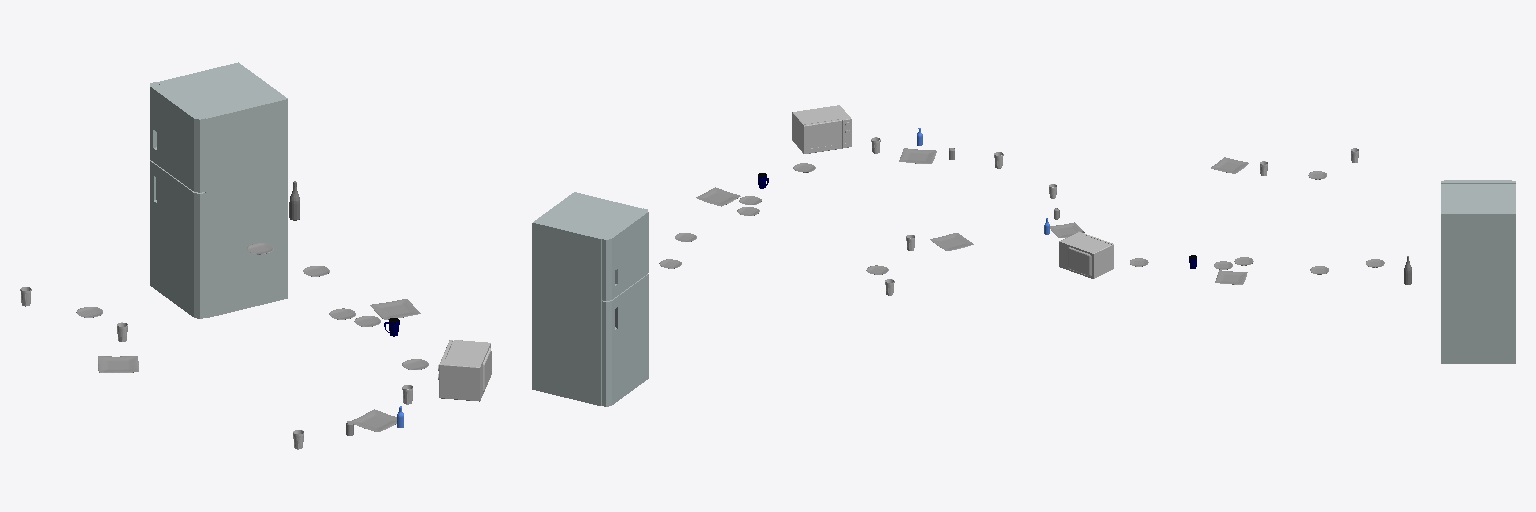
--- Facts derived from the render (not from the file) ---
Views: 3 orthographic renders of the robot side by side, from view 1: azimuth 30°, elevation 25°; view 2: azimuth 150°, elevation 25°; view 3: azimuth 270°, elevation 25°.
Robot: Kitchen_standard — 26 links, 25 joints (3 revolute, 1 continuous, 5 fixed, 16 floating); root link root_standard; default pose: every joint at zero.
Links seen in each view (by area): view 1: refridge_root, refridge_door1, refridge_door2, Microwave_root, SquarePlate_root.002, SquarePlate_root, SquarePlate_root.001; view 2: refridge_root, refridge_door1, refridge_door2, Microwave_root, Microwave_door; view 3: refridge_root, Microwave_root.
Link boxes in pixels (left/top/right/bottom): refridge_root: left=157, top=62, right=287, bottom=317; refridge_door1: left=150, top=160, right=205, bottom=318; refridge_door2: left=150, top=82, right=205, bottom=192; Microwave_root: left=438, top=340, right=491, bottom=401; SquarePlate_root.002: left=98, top=356, right=138, bottom=372; SquarePlate_root: left=370, top=299, right=420, bottom=319; SquarePlate_root.001: left=352, top=409, right=396, bottom=431; refridge_root: left=532, top=192, right=641, bottom=405; refridge_door1: left=602, top=274, right=648, bottom=406; refridge_door2: left=602, top=208, right=648, bottom=300; Microwave_root: left=792, top=105, right=851, bottom=152; Microwave_door: left=803, top=119, right=841, bottom=153; refridge_root: left=1441, top=184, right=1515, bottom=363; Microwave_root: left=1059, top=232, right=1111, bottom=278.
Size in the robot's own frame: 3.31 by 5.41 by 1.9 metres.
24 mesh visuals loaded from 24 distinct referenced files (24 Collada DAE).

The robot description file, URDF, robot "Kitchen_standard":
<?xml version="1.0"?>
<!-- created with Phobos 1.0.1 "Capricious Choutengan" -->
  <robot name="Kitchen_standard">

    <link name="GlassBottle_root">
      <inertial>
        <origin xyz="0 0 0" rpy="0 0 0"/>
        <mass value="0.2268"/>
        <inertia ixx="0.001" ixy="0" ixz="0" iyy="0.001" iyz="0" izz="0.001"/>
      </inertial>
      <visual name="GlassBottle">
        <origin xyz="0 0 0" rpy="0 0 0"/>
        <geometry>
          <mesh filename="..\meshes\dae\GlassBottle.dae" scale="0.00114 0.00114 0.00114"/>
        </geometry>
        <material name="__Blue_Glass_"/>
      </visual>
      <collision name="GlassBottle.col">
        <origin xyz="0 0 0" rpy="0 0 0"/>
        <geometry>
          <mesh filename="..\meshes\dae\GlassBottle.001.dae" scale="1.0 1.0 1.0"/>
        </geometry>
      </collision>
    </link>

    <link name="Glass_root">
      <inertial>
        <origin xyz="0 0 0" rpy="0 0 0"/>
        <mass value="0.14"/>
        <inertia ixx="0.00082" ixy="0" ixz="0" iyy="0.00082" iyz="0" izz="0.00015"/>
      </inertial>
      <visual name="Glass">
        <origin xyz="0 0 0" rpy="0 0 0"/>
        <geometry>
          <mesh filename="..\meshes\dae\Glass.dae" scale="1.0 1.0 1.0"/>
        </geometry>
        <material name="Glass"/>
      </visual>
      <collision name="Glass.col">
        <origin xyz="0 0 0" rpy="0 0 0"/>
        <geometry>
          <mesh filename="..\meshes\dae\Glass.002.dae" scale="1.0 1.0 1.0"/>
        </geometry>
      </collision>
    </link>

    <link name="Glass_root.001">
      <inertial>
        <origin xyz="0 0 0" rpy="0 0 0"/>
        <mass value="0.14"/>
        <inertia ixx="0.00082" ixy="0" ixz="0" iyy="0.00082" iyz="0" izz="0.00015"/>
      </inertial>
      <visual name="Glass.001">
        <origin xyz="0 0 0" rpy="0 0 0"/>
        <geometry>
          <mesh filename="..\meshes\dae\Glass.003.dae" scale="1.0 1.0 1.0"/>
        </geometry>
        <material name="Glass"/>
      </visual>
      <collision name="Glass.col.001">
        <origin xyz="0 0 0" rpy="0 0 0"/>
        <geometry>
          <mesh filename="..\meshes\dae\Glass.001.dae" scale="1.0 1.0 1.0"/>
        </geometry>
      </collision>
    </link>

    <link name="Glass_root.002">
      <inertial>
        <origin xyz="0 0 0" rpy="0 0 0"/>
        <mass value="0.14"/>
        <inertia ixx="0.00082" ixy="0" ixz="0" iyy="0.00082" iyz="0" izz="0.00015"/>
      </inertial>
      <visual name="Glass.002">
        <origin xyz="0 0 0" rpy="0 0 0"/>
        <geometry>
          <mesh filename="..\meshes\dae\Glass.004.dae" scale="1.0 1.0 1.0"/>
        </geometry>
        <material name="Glass"/>
      </visual>
      <collision name="Glass.col.002">
        <origin xyz="0 0 0" rpy="0 0 0"/>
        <geometry>
          <mesh filename="..\meshes\dae\Glass.005.dae" scale="1.0 1.0 1.0"/>
        </geometry>
      </collision>
    </link>

    <link name="Glass_root.003">
      <inertial>
        <origin xyz="0 0 0" rpy="0 0 0"/>
        <mass value="0.14"/>
        <inertia ixx="0.00082" ixy="0" ixz="0" iyy="0.00082" iyz="0" izz="0.00015"/>
      </inertial>
      <visual name="Glass.003">
        <origin xyz="0 0 0" rpy="0 0 0"/>
        <geometry>
          <mesh filename="..\meshes\dae\Glass.007.dae" scale="1.0 1.0 1.0"/>
        </geometry>
        <material name="Glass"/>
      </visual>
      <collision name="Glass.col.003">
        <origin xyz="0 0 0" rpy="0 0 0"/>
        <geometry>
          <mesh filename="..\meshes\dae\Glass.006.dae" scale="1.0 1.0 1.0"/>
        </geometry>
      </collision>
    </link>

    <link name="Microwave_door">
      <inertial>
        <origin xyz="0 0 0" rpy="0 0 0"/>
        <mass value="1.0"/>
        <inertia ixx="0.08548" ixy="-0.00096" ixz="-0.0011" iyy="0.03395" iyz="-0.03158" izz="0.05174"/>
      </inertial>
      <visual name="Door">
        <origin xyz="0 0 0" rpy="0 0 0"/>
        <geometry>
          <mesh filename="..\meshes\dae\meshId0_name.dae" scale="1.0 1.0 1.0"/>
        </geometry>
        <material name="MicrowaveOven"/>
      </visual>
      <collision name="Door">
        <origin xyz="0.00615 0.19801 0.16466" rpy="0 0 0"/>
        <geometry>
          <box size="0.02938 0.41796 0.32349"/>
        </geometry>
      </collision>
    </link>

    <link name="Microwave_root">
      <inertial>
        <origin xyz="0 0 0" rpy="0 0 0"/>
        <mass value="15.0"/>
        <inertia ixx="0.43564" ixy="0.00033" ixz="-0.02819" iyy="0.25701" iyz="-0.00109" izz="0.45276"/>
      </inertial>
      <visual name="Oven">
        <origin xyz="0 0 0" rpy="0 0 0"/>
        <geometry>
          <mesh filename="..\meshes\dae\meshId2_name.dae" scale="1.0 1.0 1.0"/>
        </geometry>
        <material name="MicrowaveOven"/>
      </visual>
      <collision name="Oven.col">
        <origin xyz="0 0 0" rpy="0 0 0"/>
        <geometry>
          <mesh filename="..\meshes\dae\meshId2_name.001.dae" scale="1.0 1.0 1.0"/>
        </geometry>
      </collision>
    </link>

    <link name="Plate">
      <inertial>
        <origin xyz="2e-05 1e-05 0.00484" rpy="0 0 0"/>
        <mass value="1.0"/>
        <inertia ixx="0.00397" ixy="0" ixz="0" iyy="0.00397" iyz="0" izz="0.00794"/>
      </inertial>
      <visual name="Microwave_plate_g.col">
        <origin xyz="0 0 0" rpy="0 0 0"/>
        <geometry>
          <mesh filename="..\meshes\dae\meshId1_name.dae" scale="1.0 1.0 1.0"/>
        </geometry>
        <material name="MicrowaveOven"/>
      </visual>
      <collision name="Microwave_plate">
        <origin xyz="2e-05 1e-05 0.00484" rpy="0 0 0"/>
        <geometry>
          <cylinder radius="0.12598" length="0.0063"/>
        </geometry>
      </collision>
    </link>

    <link name="Plate_root">
      <inertial>
        <origin xyz="0 0 0" rpy="0 0 0"/>
        <mass value="0.55"/>
        <inertia ixx="0.00149" ixy="0" ixz="0" iyy="0.00161" iyz="0" izz="0.00309"/>
      </inertial>
      <visual name="Plate">
        <origin xyz="0 0 0" rpy="0 0 0"/>
        <geometry>
          <mesh filename="..\meshes\dae\Plate.dae" scale="1.0 1.0 1.0"/>
        </geometry>
        <material name="ceramic.001"/>
      </visual>
      <collision name="Plate.col">
        <origin xyz="0 0 0" rpy="0 0 0"/>
        <geometry>
          <mesh filename="..\meshes\dae\Plate.001.dae" scale="1.0 1.0 1.0"/>
        </geometry>
      </collision>
    </link>

    <link name="Plate_root.001">
      <inertial>
        <origin xyz="0 0 0" rpy="0 0 0"/>
        <mass value="0.55"/>
        <inertia ixx="0.00149" ixy="0" ixz="0" iyy="0.00161" iyz="0" izz="0.00309"/>
      </inertial>
      <visual name="Plate.001">
        <origin xyz="0 0 0" rpy="0 0 0"/>
        <geometry>
          <mesh filename="..\meshes\dae\Plate.003.dae" scale="1.0 1.0 1.0"/>
        </geometry>
        <material name="ceramic.001"/>
      </visual>
      <collision name="Plate.col.001">
        <origin xyz="0 0 0" rpy="0 0 0"/>
        <geometry>
          <mesh filename="..\meshes\dae\Plate.002.dae" scale="1.0 1.0 1.0"/>
        </geometry>
      </collision>
    </link>

    <link name="Plate_root.002">
      <inertial>
        <origin xyz="0 0 0" rpy="0 0 0"/>
        <mass value="0.55"/>
        <inertia ixx="0.00149" ixy="0" ixz="0" iyy="0.00161" iyz="0" izz="0.00309"/>
      </inertial>
      <visual name="Plate.002">
        <origin xyz="0 0 0" rpy="0 0 0"/>
        <geometry>
          <mesh filename="..\meshes\dae\Plate.004.dae" scale="1.0 1.0 1.0"/>
        </geometry>
        <material name="ceramic.001"/>
      </visual>
      <collision name="Plate.col.002">
        <origin xyz="0 0 0" rpy="0 0 0"/>
        <geometry>
          <mesh filename="..\meshes\dae\Plate.005.dae" scale="1.0 1.0 1.0"/>
        </geometry>
      </collision>
    </link>

    <link name="Plate_root.003">
      <inertial>
        <origin xyz="0 0 0" rpy="0 0 0"/>
        <mass value="0.55"/>
        <inertia ixx="0.00149" ixy="0" ixz="0" iyy="0.00161" iyz="0" izz="0.00309"/>
      </inertial>
      <visual name="Plate.003">
        <origin xyz="0 0 0" rpy="0 0 0"/>
        <geometry>
          <mesh filename="..\meshes\dae\Plate.007.dae" scale="1.0 1.0 1.0"/>
        </geometry>
        <material name="ceramic.001"/>
      </visual>
      <collision name="Plate.col.003">
        <origin xyz="0 0 0" rpy="0 0 0"/>
        <geometry>
          <mesh filename="..\meshes\dae\Plate.006.dae" scale="1.0 1.0 1.0"/>
        </geometry>
      </collision>
    </link>

    <link name="Plate_root.004">
      <inertial>
        <origin xyz="0 0 0" rpy="0 0 0"/>
        <mass value="0.55"/>
        <inertia ixx="0.00149" ixy="0" ixz="0" iyy="0.00161" iyz="0" izz="0.00309"/>
      </inertial>
      <visual name="Plate.004">
        <origin xyz="0 0 0" rpy="0 0 0"/>
        <geometry>
          <mesh filename="..\meshes\dae\Plate.008.dae" scale="1.0 1.0 1.0"/>
        </geometry>
        <material name="ceramic.001"/>
      </visual>
      <collision name="Plate.col.004">
        <origin xyz="0 0 0" rpy="0 0 0"/>
        <geometry>
          <mesh filename="..\meshes\dae\Plate.009.dae" scale="1.0 1.0 1.0"/>
        </geometry>
      </collision>
    </link>

    <link name="Plate_root.005">
      <inertial>
        <origin xyz="0 0 0" rpy="0 0 0"/>
        <mass value="0.55"/>
        <inertia ixx="0.00149" ixy="0" ixz="0" iyy="0.00161" iyz="0" izz="0.00309"/>
      </inertial>
      <visual name="Plate.005">
        <origin xyz="0 0 0" rpy="0 0 0"/>
        <geometry>
          <mesh filename="..\meshes\dae\Plate.011.dae" scale="1.0 1.0 1.0"/>
        </geometry>
        <material name="ceramic.001"/>
      </visual>
      <collision name="Plate.col.005">
        <origin xyz="0 0 0" rpy="0 0 0"/>
        <geometry>
          <mesh filename="..\meshes\dae\Plate.010.dae" scale="1.0 1.0 1.0"/>
        </geometry>
      </collision>
    </link>

    <link name="SodaCan_root">
      <inertial>
        <origin xyz="0 0 0" rpy="0 0 0"/>
        <mass value="0.384"/>
        <inertia ixx="0.00096" ixy="0" ixz="0" iyy="0.00096" iyz="0" izz="0.0002"/>
      </inertial>
      <visual name="SodaCan">
        <origin xyz="0 0 0" rpy="0 0 0"/>
        <geometry>
          <mesh filename="..\meshes\dae\SodaCan.dae" scale="1.0 1.0 1.0"/>
        </geometry>
        <material name="Material.001"/>
      </visual>
      <collision name="SodaCan">
        <origin xyz="0 0 0.03217" rpy="3.14159 0 0"/>
        <geometry>
          <cylinder radius="0.03285" length="0.11973"/>
        </geometry>
      </collision>
    </link>

    <link name="SquarePlate_root">
      <inertial>
        <origin xyz="0 0 0" rpy="0 0 0"/>
        <mass value="0.9"/>
        <inertia ixx="0.00658" ixy="0" ixz="2e-05" iyy="0.00716" iyz="0" izz="0.01372"/>
      </inertial>
      <visual name="SquarePlate">
        <origin xyz="0 0 0" rpy="0 0 0"/>
        <geometry>
          <mesh filename="..\meshes\dae\Plane.000.dae" scale="1.0 1.0 1.0"/>
        </geometry>
        <material name="ceramic.000"/>
      </visual>
      <collision name="SquarePlate.col">
        <origin xyz="0 0 0" rpy="0 0 0"/>
        <geometry>
          <mesh filename="..\meshes\dae\Plane.004.dae" scale="1.0 1.0 1.0"/>
        </geometry>
      </collision>
    </link>

    <link name="SquarePlate_root.001">
      <inertial>
        <origin xyz="0 0 0" rpy="0 0 0"/>
        <mass value="0.9"/>
        <inertia ixx="0.00658" ixy="0" ixz="2e-05" iyy="0.00716" iyz="0" izz="0.01372"/>
      </inertial>
      <visual name="SquarePlate.001">
        <origin xyz="0 0 0" rpy="0 0 0"/>
        <geometry>
          <mesh filename="..\meshes\dae\Plane.006.dae" scale="1.0 1.0 1.0"/>
        </geometry>
        <material name="ceramic.000"/>
      </visual>
      <collision name="SquarePlate.col.001">
        <origin xyz="0 0 0" rpy="0 0 0"/>
        <geometry>
          <mesh filename="..\meshes\dae\Plane.005.dae" scale="1.0 1.0 1.0"/>
        </geometry>
      </collision>
    </link>

    <link name="SquarePlate_root.002">
      <inertial>
        <origin xyz="0 0 0" rpy="0 0 0"/>
        <mass value="0.9"/>
        <inertia ixx="0.00658" ixy="0" ixz="2e-05" iyy="0.00716" iyz="0" izz="0.01372"/>
      </inertial>
      <visual name="SquarePlate.002">
        <origin xyz="0 0 0" rpy="0 0 0"/>
        <geometry>
          <mesh filename="..\meshes\dae\Plane.007.dae" scale="1.0 1.0 1.0"/>
        </geometry>
        <material name="ceramic.000"/>
      </visual>
      <collision name="SquarePlate.col.002">
        <origin xyz="0 0 0" rpy="0 0 0"/>
        <geometry>
          <mesh filename="..\meshes\dae\Plane.008.dae" scale="1.0 1.0 1.0"/>
        </geometry>
      </collision>
    </link>

    <link name="WineBottle_root">
      <inertial>
        <origin xyz="0 0 0" rpy="0 0 0"/>
        <mass value="1.2"/>
        <inertia ixx="0.02584" ixy="0" ixz="0" iyy="0.02584" iyz="0" izz="0.00113"/>
      </inertial>
      <visual name="WineBottle">
        <origin xyz="0 0 0" rpy="0 0 0"/>
        <geometry>
          <mesh filename="..\meshes\dae\WineBottle.dae" scale="1.0 1.0 1.0"/>
        </geometry>
        <material name="Material.000"/>
      </visual>
      <collision name="WineBottle.col">
        <origin xyz="0 0 0" rpy="0 0 0"/>
        <geometry>
          <mesh filename="..\meshes\dae\WineBottle.001.dae" scale="1.0 1.0 1.0"/>
        </geometry>
      </collision>
    </link>

    <link name="base_link">
      <inertial>
        <origin xyz="0 0 0" rpy="0 0 0"/>
        <mass value="0.2"/>
        <inertia ixx="0.001" ixy="0" ixz="0" iyy="0.001" iyz="0" izz="0.001"/>
      </inertial>
      <visual name="mug_base">
        <origin xyz="0 0 0" rpy="0 0 0"/>
        <geometry>
          <mesh filename="..\meshes\dae\Group1/mesh6/mesh6-geometry#mesh6-geometry.dae" scale="1.0 1.0 1.0"/>
        </geometry>
        <material name="material_0_0.001"/>
      </visual>
      <collision name="mug_base.col">
        <origin xyz="0 0 0" rpy="0 0 0"/>
        <geometry>
          <mesh filename="..\meshes\dae\Group1/mesh6/mesh6-geometry#mesh6-geometry.001.dae" scale="1.0 1.0 1.0"/>
        </geometry>
      </collision>
    </link>

    <link name="lid_link">
      <inertial>
        <origin xyz="0 0 0" rpy="0 0 0"/>
        <mass value="0.001"/>
        <inertia ixx="0.001" ixy="0" ixz="0" iyy="0.001" iyz="0" izz="0.001"/>
      </inertial>
      <visual name="mug_lid">
        <origin xyz="-0.00559 -0.00117 0" rpy="0 0 0"/>
        <geometry>
          <mesh filename="..\meshes\dae\Union1/mesh32/mesh32-geometry#mesh32-geometry.dae" scale="1.0 1.0 1.0"/>
        </geometry>
        <material name="material_0_0.005"/>
      </visual>
      <collision name="mug_lid.col">
        <origin xyz="-0.00559 -0.00117 0" rpy="0 0 0"/>
        <geometry>
          <mesh filename="..\meshes\dae\Union1/mesh32/mesh32-geometry#mesh32-geometry.001.dae" scale="1.0 1.0 1.0"/>
        </geometry>
      </collision>
    </link>

    <link name="mug1_root">
      <inertial>
        <origin xyz="0 0 0" rpy="0 0 0"/>
        <mass value="0.001"/>
        <inertia ixx="0.001" ixy="0" ixz="0" iyy="0.001" iyz="0" izz="0.001"/>
      </inertial>
    </link>

    <link name="refridge_door1">
      <inertial>
        <origin xyz="0 0 0" rpy="0 0 0"/>
        <mass value="0.001"/>
        <inertia ixx="0.001" ixy="0" ixz="0" iyy="0.001" iyz="0" izz="0.001"/>
      </inertial>
      <visual name="Plane">
        <origin xyz="-0.01745 0.4139 0" rpy="0 0 0"/>
        <geometry>
          <mesh filename="..\meshes\dae\Plane.dae" scale="0.02785 0.43052 0.43052"/>
        </geometry>
        <material name="refridge_mat"/>
      </visual>
      <collision name="Plane.col">
        <origin xyz="-0.01745 0.4139 0" rpy="0 0 0"/>
        <geometry>
          <mesh filename="..\meshes\dae\Plane.002.dae" scale="1.0 1.0 1.0"/>
        </geometry>
      </collision>
    </link>

    <link name="refridge_door2">
      <inertial>
        <origin xyz="0 0 0" rpy="0 0 0"/>
        <mass value="0.001"/>
        <inertia ixx="0.001" ixy="0" ixz="0" iyy="0.001" iyz="0" izz="0.001"/>
      </inertial>
      <visual name="Plane.001">
        <origin xyz="-0.01778 0.41381 0" rpy="0 0 0"/>
        <geometry>
          <mesh filename="..\meshes\dae\Plane.001.dae" scale="0.02785 0.43052 0.43052"/>
        </geometry>
        <material name="refridge_mat"/>
      </visual>
      <collision name="Plane.001.000">
        <origin xyz="-0.01778 0.41381 0" rpy="0 0 0"/>
        <geometry>
          <mesh filename="..\meshes\dae\Plane.003.dae" scale="1.0 1.0 1.0"/>
        </geometry>
      </collision>
    </link>

    <link name="refridge_root">
      <inertial>
        <origin xyz="0 0 0" rpy="0 0 0"/>
        <mass value="0.001"/>
        <inertia ixx="0.001" ixy="0" ixz="0" iyy="0.001" iyz="0" izz="0.001"/>
      </inertial>
      <visual name="Cube">
        <origin xyz="0 0 0" rpy="0 0 3.14159"/>
        <geometry>
          <mesh filename="..\meshes\dae\Cube.050.dae" scale="1.0 1.0 1.0"/>
        </geometry>
        <material name="refridge_mat"/>
      </visual>
      <collision name="Cube.col">
        <origin xyz="0 0 0" rpy="0 0 3.14159"/>
        <geometry>
          <mesh filename="..\meshes\dae\Cube.052.dae" scale="1.0 1.0 1.0"/>
        </geometry>
      </collision>
    </link>

    <link name="root_standard">
      <inertial>
        <origin xyz="0 0 0" rpy="0 0 0"/>
        <mass value="0.001"/>
        <inertia ixx="0.001" ixy="0" ixz="0" iyy="0.001" iyz="0" izz="0.001"/>
      </inertial>
    </link>

    <joint name="GlassBottle_root" type="floating">
      <origin xyz="0.00875 -2.11094 0.00633" rpy="0 0 0"/>
      <parent link="root_standard"/>
      <child link="GlassBottle_root"/>
      <limit effort="0" velocity="0"/>
    </joint>

    <joint name="Glass_root" type="floating">
      <origin xyz="0.3044 -1.72322 0.01007" rpy="0 0 0"/>
      <parent link="root_standard"/>
      <child link="Glass_root"/>
      <limit effort="0" velocity="0"/>
    </joint>

    <joint name="Glass_root.001" type="floating">
      <origin xyz="-0.96726 -2.0449 0.01007" rpy="0 0 0"/>
      <parent link="root_standard"/>
      <child link="Glass_root.001"/>
      <limit effort="0" velocity="0"/>
    </joint>

    <joint name="Glass_root.002" type="floating">
      <origin xyz="-1.3204 0.37472 0.13386" rpy="0 0 0"/>
      <parent link="root_standard"/>
      <child link="Glass_root.002"/>
      <limit effort="0" velocity="0"/>
    </joint>

    <joint name="Glass_root.003" type="floating">
      <origin xyz="-1.67462 1.41922 0.13386" rpy="0 0 0"/>
      <parent link="root_standard"/>
      <child link="Glass_root.003"/>
      <limit effort="0" velocity="0"/>
    </joint>

    <joint name="Microwave_door" type="revolute">
      <origin xyz="0.15691 -0.25071 -0.16141" rpy="0 0 0"/>
      <parent link="Microwave_root"/>
      <child link="Microwave_door"/>
      <axis xyz="0 0 1.0"/>
      <limit lower="-6.0" upper="0" effort="0" velocity="0"/>
    </joint>

    <joint name="Microwave_plate" type="continuous">
      <origin xyz="-0.00652 -0.04798 -0.11425" rpy="0 0 0"/>
      <parent link="Microwave_root"/>
      <child link="Plate"/>
      <axis xyz="0 0 1.0"/>
      <limit effort="0" velocity="0"/>
    </joint>

    <joint name="Microwave_root" type="fixed">
      <origin xyz="0.90703 -1.66064 0.14872" rpy="0 0 2.43466"/>
      <parent link="root_standard"/>
      <child link="Microwave_root"/>
    </joint>

    <joint name="Plate_root" type="floating">
      <origin xyz="0.7362 0.14678 -0.00911" rpy="0 0 0"/>
      <parent link="root_standard"/>
      <child link="Plate_root"/>
      <limit effort="0" velocity="0"/>
    </joint>

    <joint name="Plate_root.001" type="floating">
      <origin xyz="0.84973 -0.08917 -0.00911" rpy="0 0 0"/>
      <parent link="root_standard"/>
      <child link="Plate_root.001"/>
      <limit effort="0" velocity="0"/>
    </joint>

    <joint name="Plate_root.002" type="floating">
      <origin xyz="0.9784 1.0172 -0.00911" rpy="0 0 0"/>
      <parent link="root_standard"/>
      <child link="Plate_root.002"/>
      <limit effort="0" velocity="0"/>
    </joint>

    <joint name="Plate_root.003" type="floating">
      <origin xyz="0.78918 1.65299 -0.00911" rpy="0 0 0"/>
      <parent link="root_standard"/>
      <child link="Plate_root.003"/>
      <limit effort="0" velocity="0"/>
    </joint>

    <joint name="Plate_root.004" type="floating">
      <origin xyz="0.76647 -1.05667 -0.00911" rpy="0 0 0"/>
      <parent link="root_standard"/>
      <child link="Plate_root.004"/>
      <limit effort="0" velocity="0"/>
    </joint>

    <joint name="Plate_root.005" type="floating">
      <origin xyz="-1.28469 0.99449 0.13768" rpy="0 0 0"/>
      <parent link="root_standard"/>
      <child link="Plate_root.005"/>
      <limit effort="0" velocity="0"/>
    </joint>

    <joint name="SodaCan_root" type="floating">
      <origin xyz="-0.43468 -2.00379 0.0189" rpy="0 0 0"/>
      <parent link="root_standard"/>
      <child link="SodaCan_root"/>
      <limit effort="0" velocity="0"/>
    </joint>

    <joint name="SquarePlate_root" type="floating">
      <origin xyz="1.17802 0.00141 -0.00907" rpy="0 0 -0.13965"/>
      <parent link="root_standard"/>
      <child link="SquarePlate_root"/>
      <limit effort="0" velocity="0"/>
    </joint>

    <joint name="SquarePlate_root.001" type="floating">
      <origin xyz="-0.10112 -1.88324 -0.00907" rpy="0 0 -2.78146"/>
      <parent link="root_standard"/>
      <child link="SquarePlate_root.001"/>
      <limit effort="0" velocity="0"/>
    </joint>

    <joint name="SquarePlate_root.002" type="floating">
      <origin xyz="-1.58462 -0.01373 0.11953" rpy="0 0 -0.50103"/>
      <parent link="root_standard"/>
      <child link="SquarePlate_root.002"/>
      <limit effort="0" velocity="0"/>
    </joint>

    <joint name="WineBottle_root" type="floating">
      <origin xyz="1.34931 2.03025 -0.0003" rpy="0 0 0"/>
      <parent link="root_standard"/>
      <child link="WineBottle_root"/>
      <limit effort="0" velocity="0"/>
    </joint>

    <joint name="joint_0" type="fixed">
      <origin xyz="0.00559 0.00117 0" rpy="0 0 0"/>
      <parent link="base_link"/>
      <child link="lid_link"/>
    </joint>

    <joint name="joint_1" type="fixed">
      <origin xyz="0 0 0" rpy="0 0 0"/>
      <parent link="mug1_root"/>
      <child link="base_link"/>
    </joint>

    <joint name="mug1_root" type="fixed">
      <origin xyz="0.90549 -0.43287 0.07086" rpy="0 0 0"/>
      <parent link="root_standard"/>
      <child link="mug1_root"/>
    </joint>

    <joint name="refridge_door1" type="revolute">
      <origin xyz="0.35564 0.41796 -0.84106" rpy="0 0 3.14159"/>
      <parent link="refridge_root"/>
      <child link="refridge_door1"/>
      <axis xyz="0 0 1.0"/>
      <limit lower="0" upper="3.0" effort="0" velocity="0"/>
    </joint>

    <joint name="refridge_door2" type="revolute">
      <origin xyz="0.35532 0.41778 0.35533" rpy="0 0 3.14159"/>
      <parent link="refridge_root"/>
      <child link="refridge_door2"/>
      <axis xyz="0 0 1.0"/>
      <limit lower="0" upper="3.0" effort="0" velocity="0"/>
    </joint>

    <joint name="refridge_root" type="fixed">
      <origin xyz="1.02464 2.83296 -0.09375" rpy="0 0 -3.14159"/>
      <parent link="root_standard"/>
      <child link="refridge_root"/>
    </joint>

    <material name="Glass">
      <color rgba="0.8 0.8 0.8 0.040000000000000036"/>
    </material>

    <material name="Material.000">
      <color rgba="0.54216 0.54216 0.54216 1.0"/>
    </material>

    <material name="Material.001">
      <color rgba="0.64 0.64 0.64 1.0"/>
    </material>

    <material name="MicrowaveOven">
      <color rgba="0.8 0.8 0.8 1.0"/>
    </material>

    <material name="__Blue_Glass_">
      <color rgba="0.39216 0.58431 0.92941 0.49804000000000004"/>
    </material>

    <material name="ceramic.000">
      <color rgba="0.64 0.64 0.64 1.0"/>
    </material>

    <material name="ceramic.001">
      <color rgba="0.64 0.64 0.64 1.0"/>
    </material>

    <material name="material_0_0.001">
      <color rgba="0 0 0.4 1.0"/>
    </material>

    <material name="material_0_0.005">
      <color rgba="0.04706 0.04706 0.04706 1.0"/>
    </material>

    <material name="refridge_mat">
      <color rgba="0.74096 0.7879 0.7879 1.0"/>
    </material>

  </robot>
